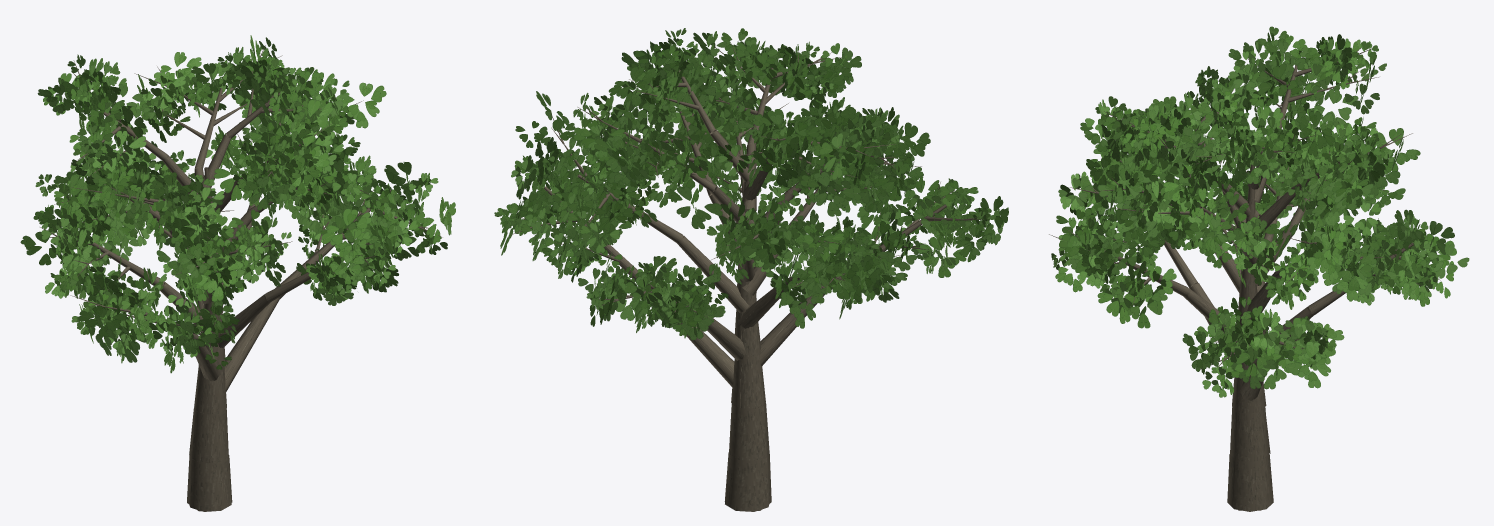
File: linden-92374.glb
3 renders of one model, left to right at view 1: azimuth 30°, elevation 25°; view 2: azimuth 150°, elevation 25°; view 3: azimuth 270°, elevation 25°, orthographic. The views are drawn at different scales.
Visible parts, largest first — view 1: near_leaves, far_leaves, near_bark, far_bark, near_winter; view 2: near_leaves, far_leaves, near_bark, far_bark, near_winter; view 3: near_leaves, far_leaves, near_bark, far_bark, near_winter.
Part boxes in pixels (box(x1,y1,x2,y2)): near_leaves: box(24, 39, 450, 369); far_leaves: box(20, 35, 455, 373); near_bark: box(77, 80, 410, 511); far_bark: box(77, 88, 409, 511); near_winter: box(40, 45, 442, 338); near_leaves: box(494, 28, 1004, 338); far_leaves: box(497, 28, 1008, 340); near_bark: box(541, 63, 964, 511); far_bark: box(541, 64, 963, 510); near_winter: box(511, 43, 982, 318); near_leaves: box(1051, 30, 1469, 397); far_leaves: box(1055, 26, 1456, 394); near_bark: box(1089, 61, 1413, 511); far_bark: box(1088, 64, 1413, 510); near_winter: box(1049, 48, 1439, 369).
Size of the model in its own units: 9.31 by 9.01 by 8.04.
Materials: 2 (2 with a texture image).
